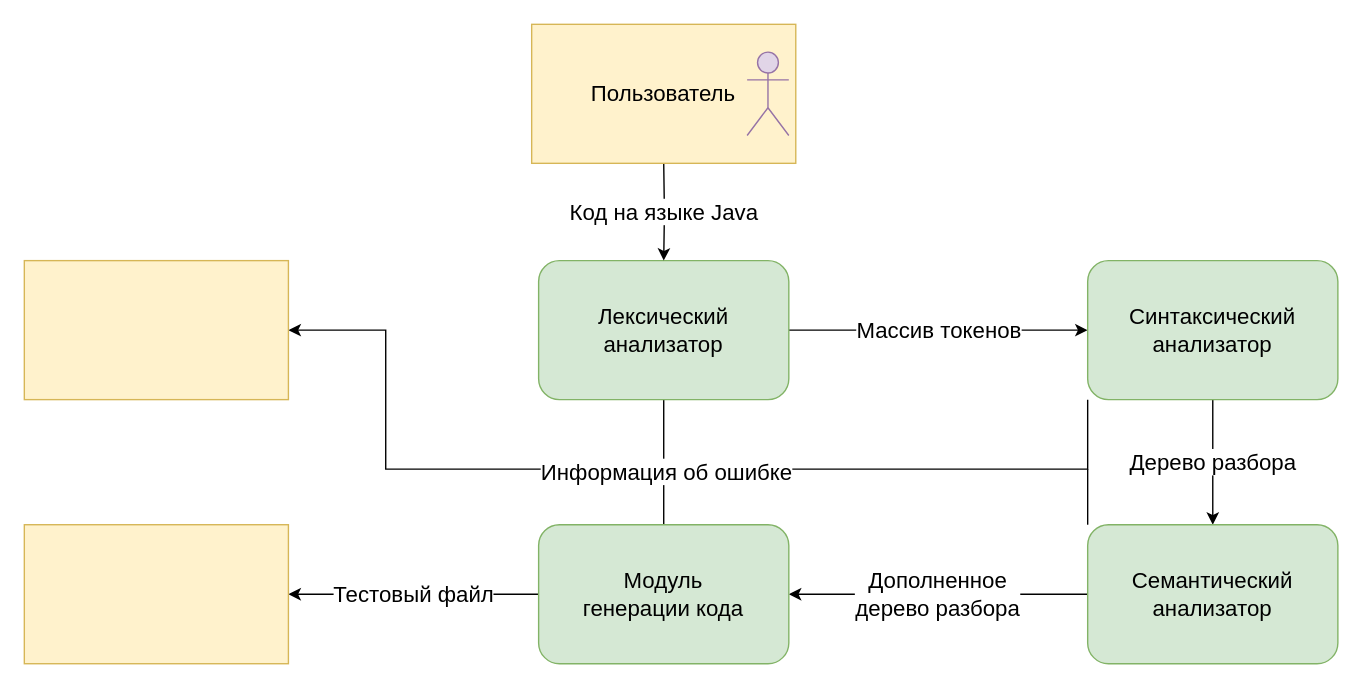
Image size: 1362x688. Some labels were removed from this diagram. Each missing label, with the box of its shape:
Код на языке C++: (23, 523, 288, 664)
Сообщение об ошибке: (23, 259, 288, 400)
